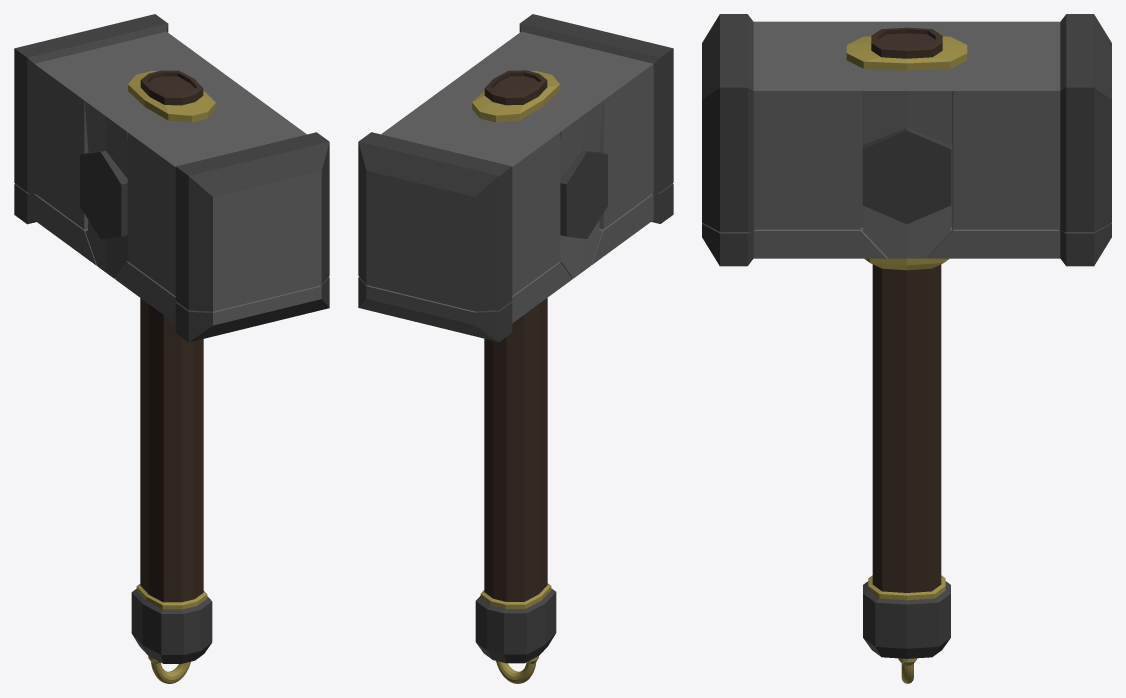
File: Mjolnir.fbx
3 views of the same model, side by side, from view 1: azimuth 30°, elevation 25°; view 2: azimuth 150°, elevation 25°; view 3: azimuth 270°, elevation 25° (orthographic). The views are drawn at different scales.
Parts seen in each view (by area): view 1: HAMMAAHHH; view 2: HAMMAAHHH; view 3: HAMMAAHHH.
Boxes of the visible parts, bbox=[...] form: HAMMAAHHH: bbox=[14, 14, 329, 683]; HAMMAAHHH: bbox=[358, 14, 673, 683]; HAMMAAHHH: bbox=[702, 14, 1111, 683].
Bounding box in the file's own units: 558 × 2244 × 1294.
